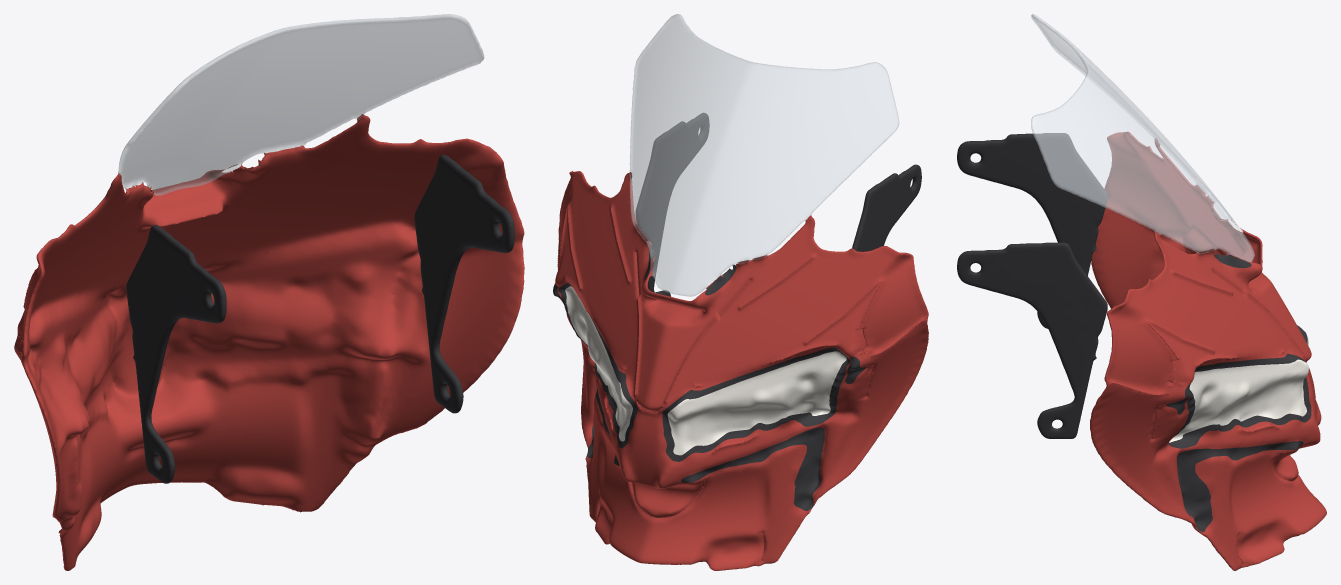
The model's file is naked_4.glb.
3 views of the same model, side by side, from view 1: azimuth 30°, elevation 25°; view 2: azimuth 150°, elevation 25°; view 3: azimuth 270°, elevation 25° (orthographic). The views are drawn at different scales.
Visible parts, largest first — view 1: lod0; view 2: lod0; view 3: lod0.
Boxes of the visible parts, box(x1,y1,x2,y2) form: lod0: box(14, 14, 524, 570); lod0: box(553, 14, 928, 570); lod0: box(957, 14, 1326, 570).
Size of what is drawn, in the model's own units: 0.4166 by 0.4691 by 0.3416.
